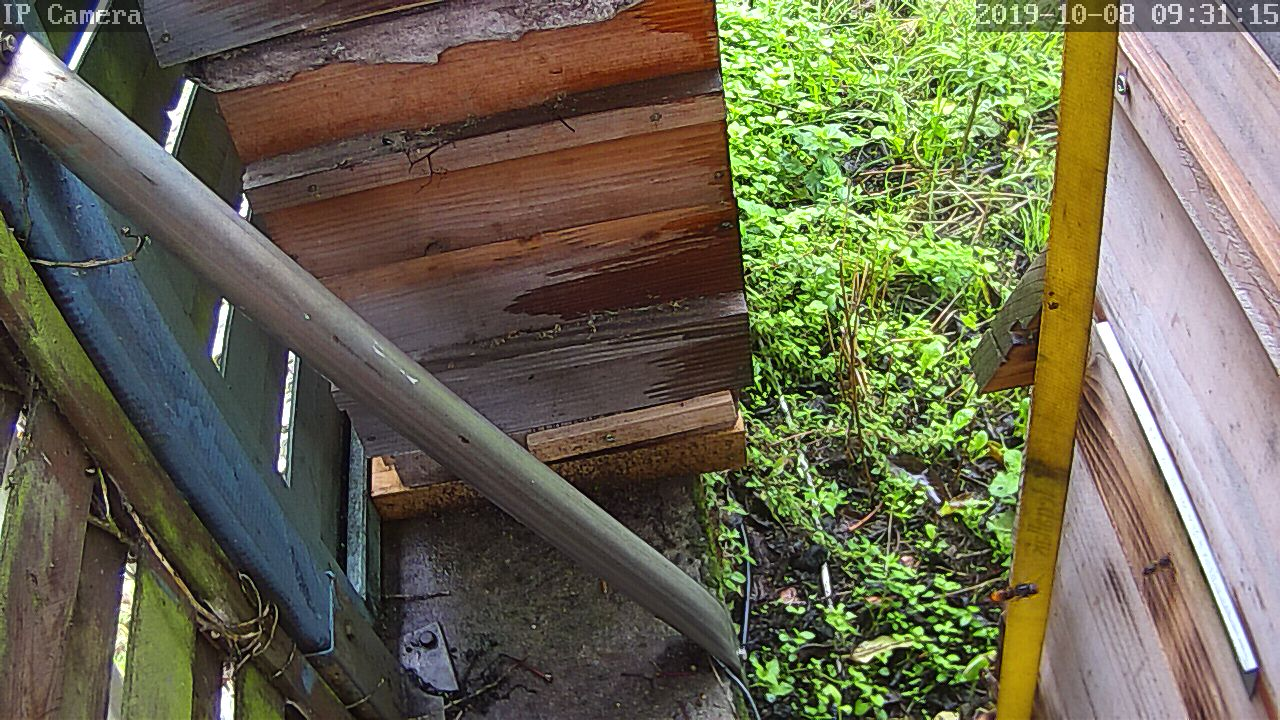bee: (1141, 550, 1179, 586)
hornet: (986, 574, 1044, 610)
